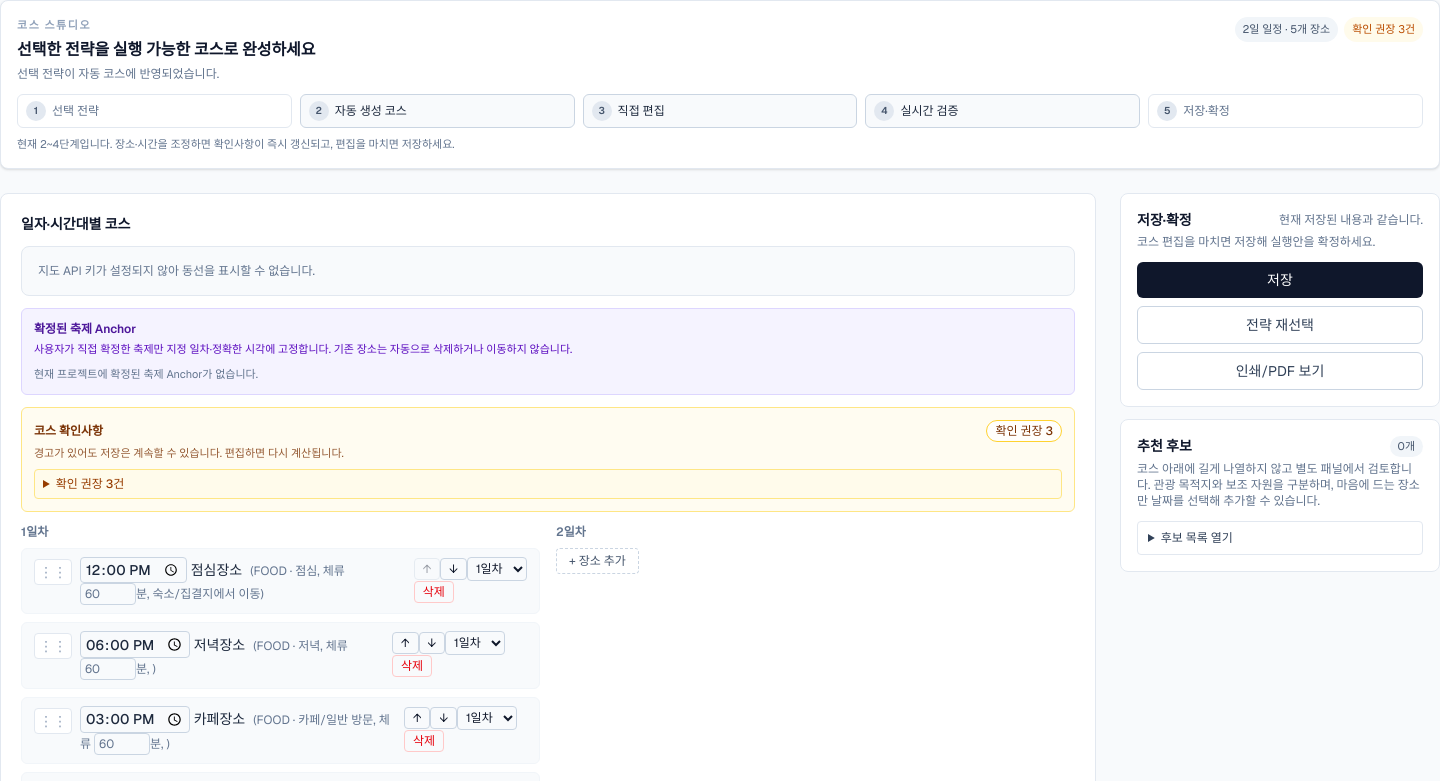
Test: PlanEditor FOOD 목적 라벨(5단계 — 식사와 일반 방문 구분) › 저장 시 courseJson에 mealPurpose가 optional 필드로 그대로 포함된다
Click the button "저장" at (1280, 280), box [1137,262,1423,298]
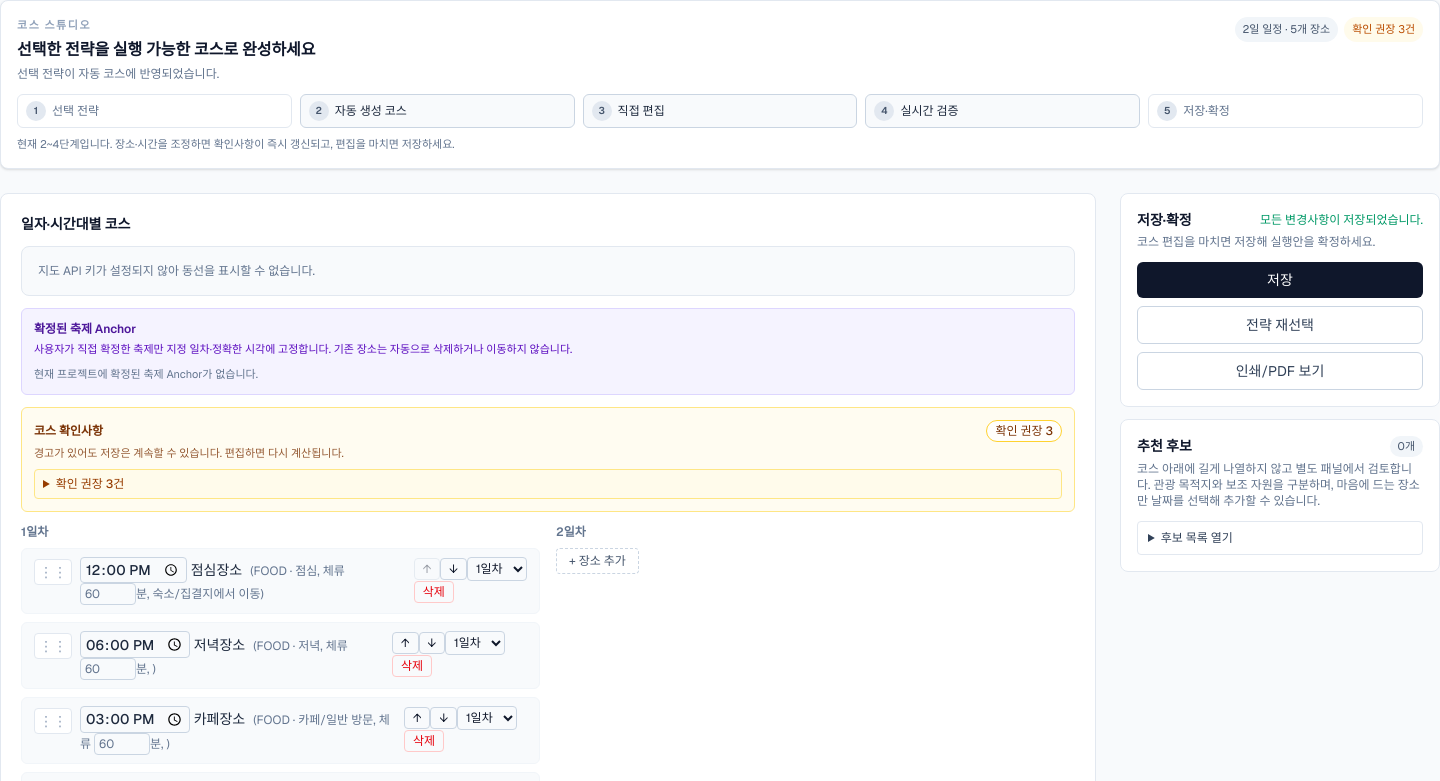
expect the text "모든 변경사항이 저장되었습니다." is shown: met, box [1260,212,1423,228]
